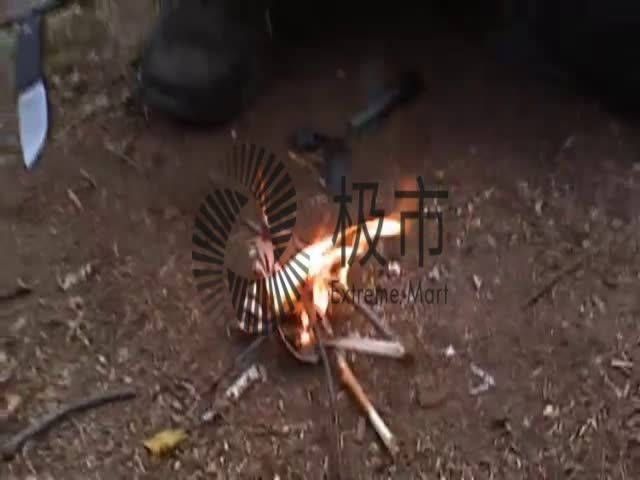fire: (241, 215, 399, 344)
